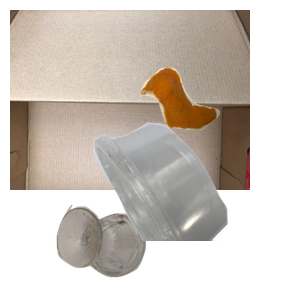cardboard: (10, 10, 250, 190)
glass: (54, 202, 193, 300)
plastic: (91, 120, 300, 300)
trash: (137, 65, 300, 188)
